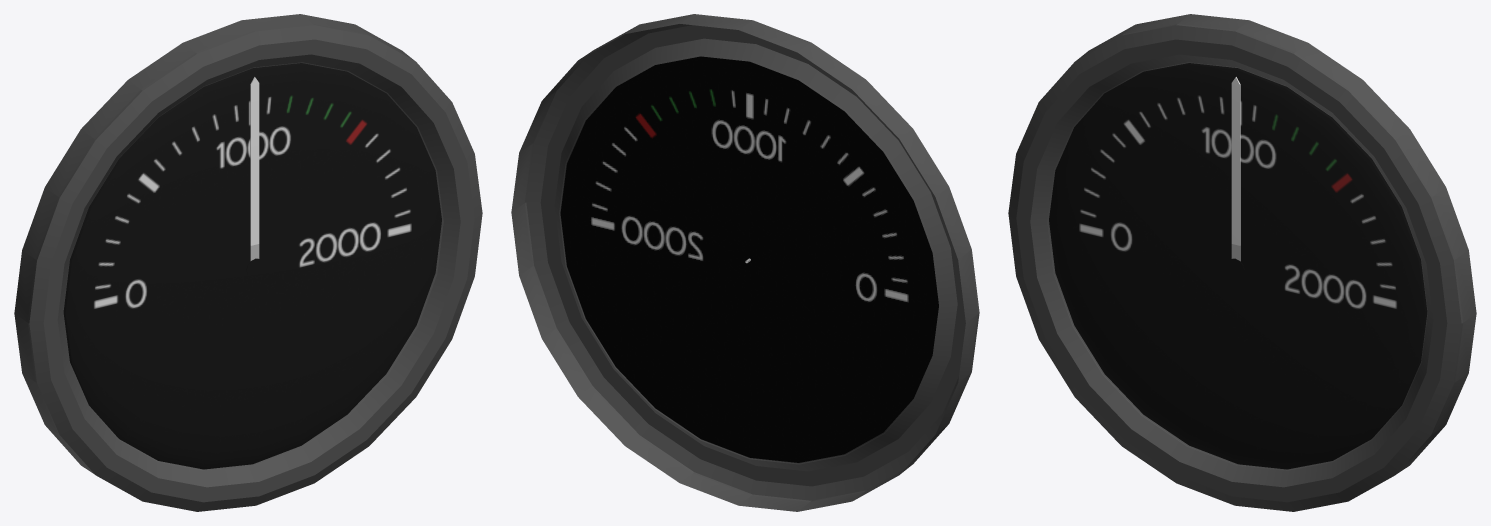
Rendered from Gauge_0-2000.obj.
3 renders of one model, left to right at view 1: azimuth 30°, elevation 25°; view 2: azimuth 150°, elevation 25°; view 3: azimuth 330°, elevation 25°, orthographic.
Visible parts, largest first — view 1: Face, Rim, NeedleMain; view 2: Face, Rim; view 3: Face, Rim, NeedleMain.
Boxes of the visible parts, x1=… form: Face: x1=63, y1=63, x2=441, y2=469; Rim: x1=14, y1=14, x2=482, y2=511; NeedleMain: x1=250, y1=77, x2=259, y2=245; Face: x1=560, y1=56, x2=938, y2=462; Rim: x1=511, y1=14, x2=979, y2=511; Face: x1=1049, y1=63, x2=1427, y2=469; Rim: x1=1008, y1=14, x2=1476, y2=511; NeedleMain: x1=1231, y1=77, x2=1240, y2=245.
Size of the model in its own units: 0.0822 by 0.0822 by 0.00794.
